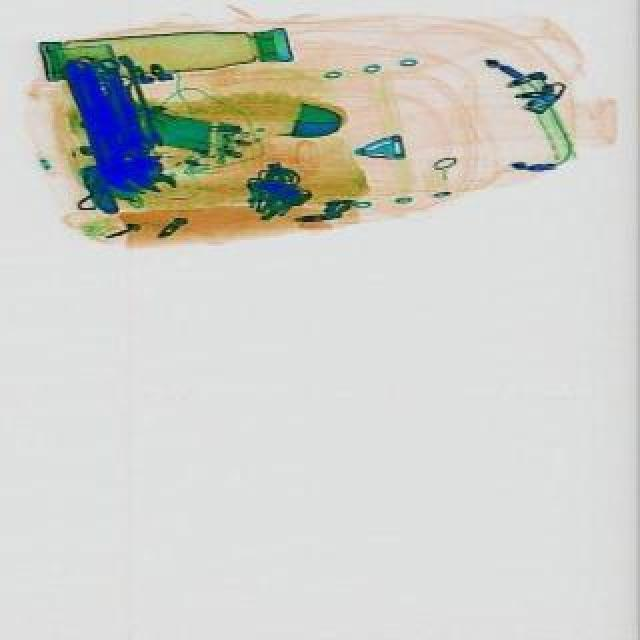wrench: (94, 56, 184, 200)
